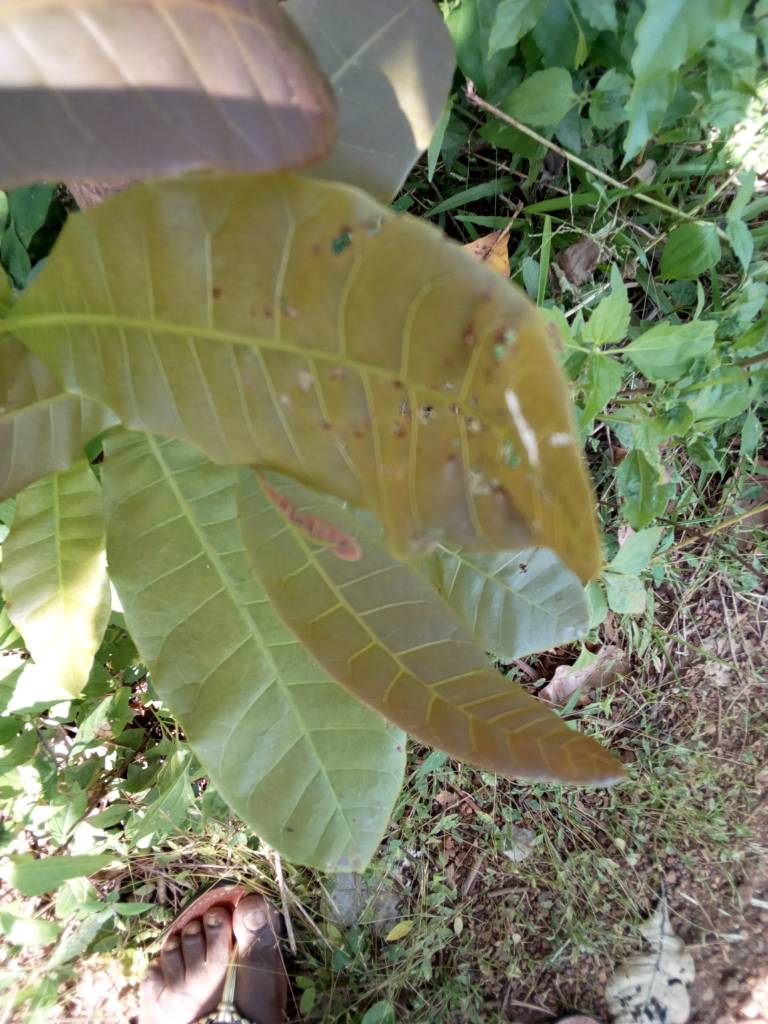Anoplonemis curvipes: (1, 172, 694, 608)
